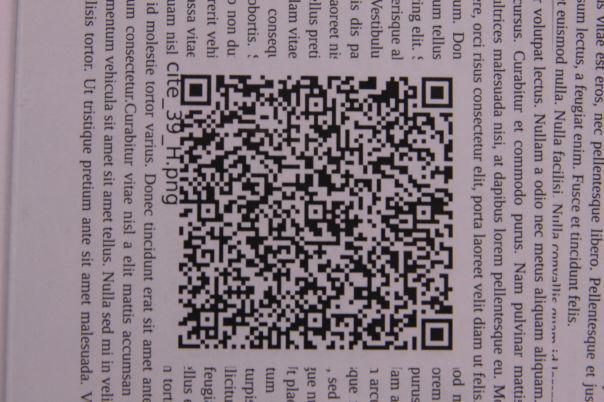Finder pattern: (178, 69, 219, 109), (419, 315, 456, 356), (419, 75, 458, 111)
